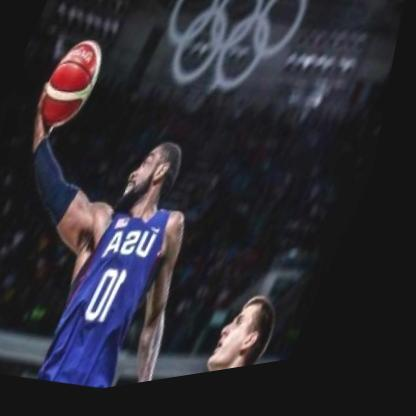basketball: (27, 29, 128, 144)
